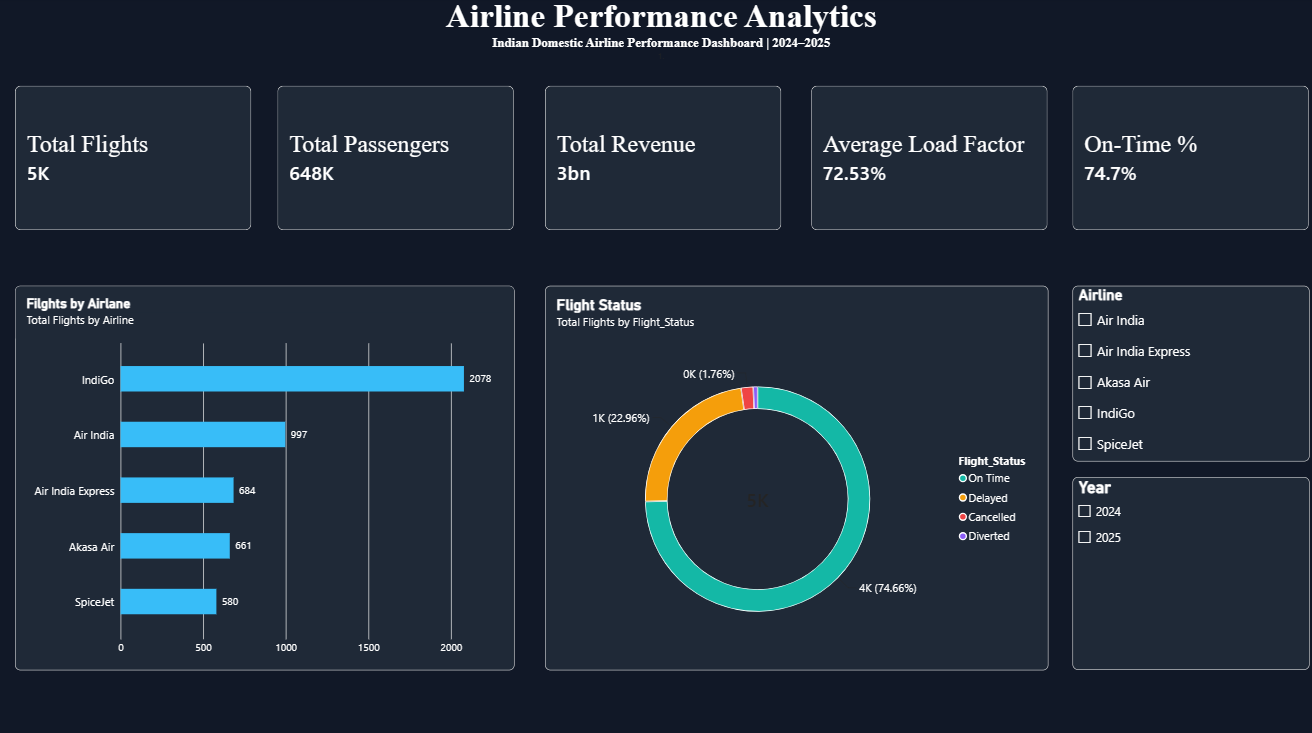

What the dashboard file says about the page in this screenshot:
{"tool":"powerbi","page":{"name":"Executive Overview","canvas":[1920,1080],"ordinal":0},"visuals":[{"type":"textbox","box":[9,0,1911,112.2],"z":0},{"type":"cardVisual","fields":{"Data":["Indian_Airline_Flights_2024_2025.Total Flights"]},"box":[29.4,129.3,342.9,209.7],"z":1000},{"type":"cardVisual","fields":{"Data":["Indian_Airline_Flights_2024_2025.Total Revenue"]},"box":[795.6,129.3,342.9,209.7],"z":2000},{"type":"cardVisual","fields":{"Data":["Indian_Airline_Flights_2024_2025.Total Passengers"]},"box":[409.6,129.3,342.9,209.7],"z":3000},{"type":"cardVisual","fields":{"Data":["Indian_Airline_Flights_2024_2025.Average Load Factor"]},"box":[1181.6,129.3,342.9,209.7],"z":4000},{"type":"cardVisual","fields":{"Data":["Indian_Airline_Flights_2024_2025.On-Time %"]},"box":[1559.8,129.3,342.9,209.7],"z":5000},{"type":"clusteredBarChart","title":"Filghts by Airlane","fields":{"Category":["Indian_Airline_Flights_2024_2025.Airline"],"Y":["Indian_Airline_Flights_2024_2025.Total Flights"]},"box":[29.4,417.4,723.1,556.5],"z":6000},{"type":"donutChart","title":"Flight Status","fields":{"Category":["Indian_Airline_Flights_2024_2025.Flight_Status"],"Y":["Indian_Airline_Flights_2024_2025.Total Flights"]},"box":[795.6,417.4,729,556.5],"z":7000},{"type":"slicer","title":"Airlane","fields":{"Values":["Indian_Airline_Flights_2024_2025.Airline"]},"box":[1559.8,417.4,342.9,254.7],"z":8000},{"type":"slicer","fields":{"Values":["DateTable.Year"]},"box":[1559.8,695.7,343,279],"z":9000}]}

Visuals, with their boxes in screenshot pixels (x1, y1, x2, y2), scaled from the page's 1920x1080 canvas onto the 1312x733 screenshot:
textbox: (6, 0, 1311, 76)
cardVisual - Indian_Airline_Flights_2024_2025.Total Flights: (20, 88, 254, 230)
cardVisual - Indian_Airline_Flights_2024_2025.Total Revenue: (544, 88, 778, 230)
cardVisual - Indian_Airline_Flights_2024_2025.Total Passengers: (280, 88, 514, 230)
cardVisual - Indian_Airline_Flights_2024_2025.Average Load Factor: (807, 88, 1042, 230)
cardVisual - Indian_Airline_Flights_2024_2025.On-Time %: (1066, 88, 1300, 230)
"Filghts by Airlane" clusteredBarChart: (20, 283, 514, 661)
"Flight Status" donutChart: (544, 283, 1042, 661)
"Airlane" slicer: (1066, 283, 1300, 456)
slicer - DateTable.Year: (1066, 472, 1300, 662)
